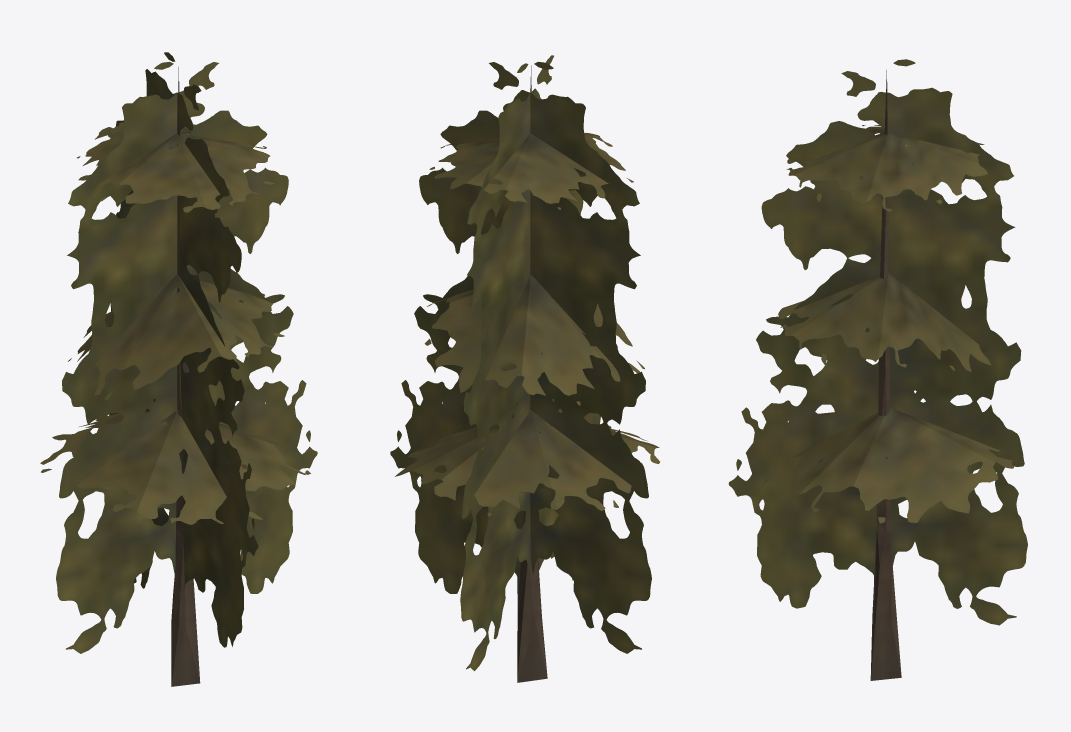
File: forest_pine004.glb
3 views of the same model, side by side, from view 1: azimuth 30°, elevation 25°; view 2: azimuth 150°, elevation 25°; view 3: azimuth 270°, elevation 25° (orthographic).
Bounding box in the file's own units: 3.47 × 7.46 × 3.47.
Materials: 1 (1 with a texture image).
